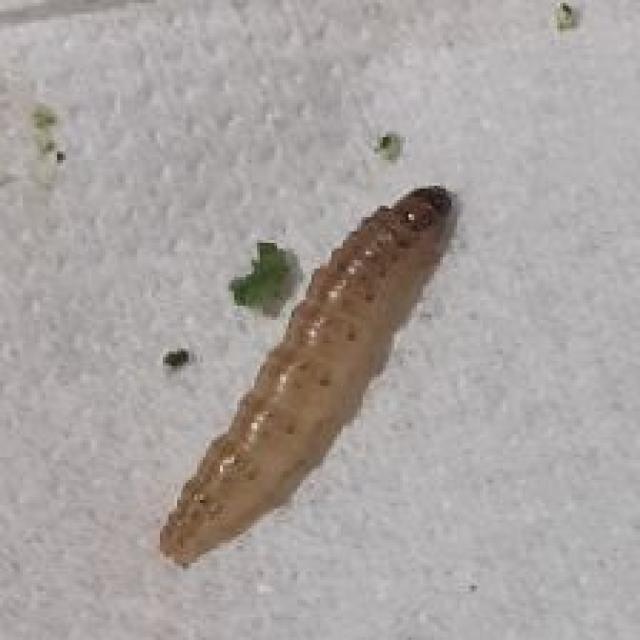white mucus: (124, 175, 556, 556)
